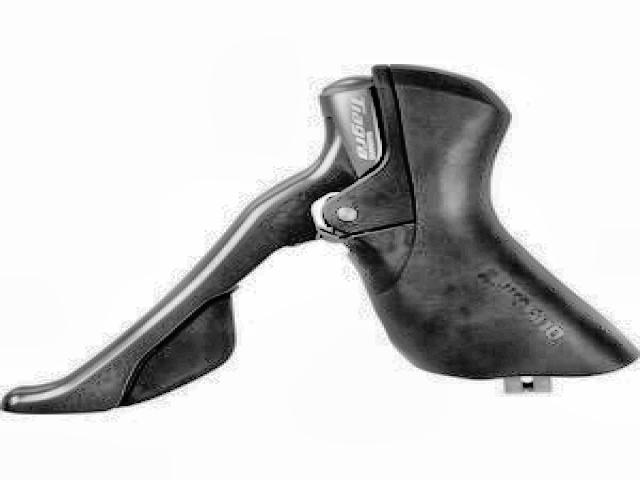sti_shifter: (3, 53, 638, 420)
